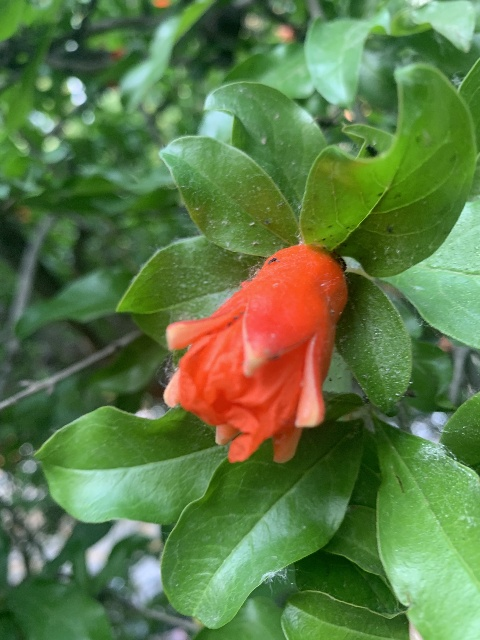flower: (162, 244, 346, 463)
